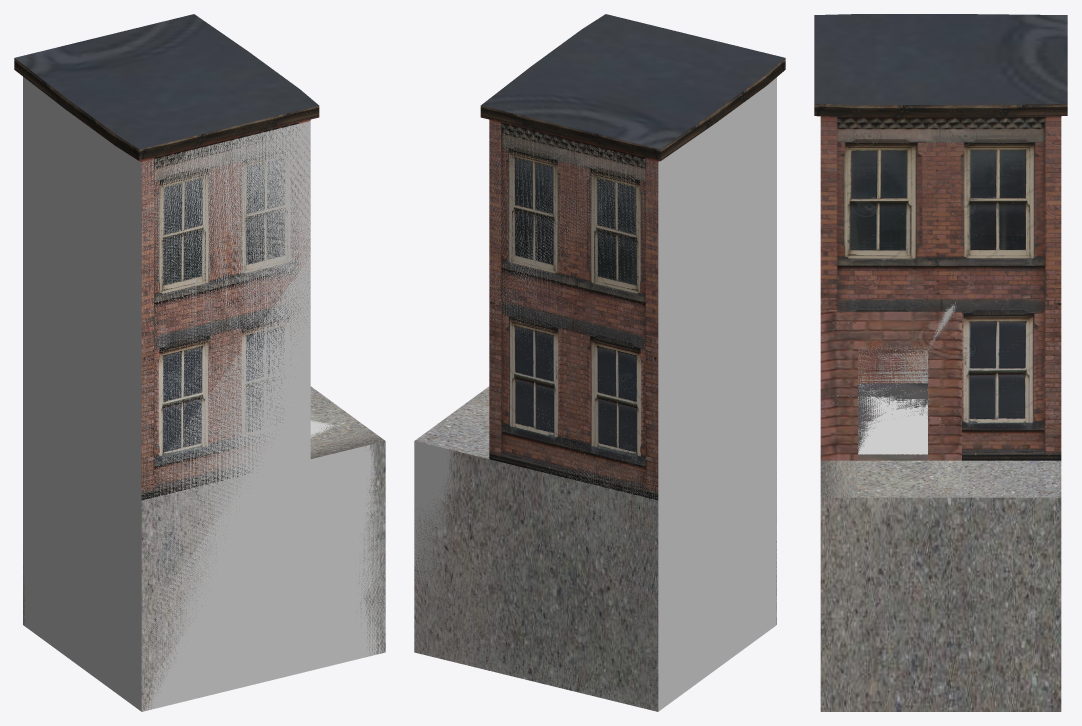
The model's file is player-home.fbx.
The picture shows the model from 3 angles, left to right: view 1: azimuth 30°, elevation 25°; view 2: azimuth 150°, elevation 25°; view 3: azimuth 270°, elevation 25°; orthographic projection.
Parts seen in each view (by area): view 1: Plane.027, Plane.008; view 2: Plane.008, Plane.027; view 3: Plane.008, Plane.027.
Part boxes in pixels (left/top/right/bottom): Plane.027: left=23, top=77, right=385, bottom=711; Plane.008: left=14, top=14, right=385, bottom=711; Plane.008: left=414, top=14, right=785, bottom=711; Plane.027: left=414, top=77, right=776, bottom=711; Plane.008: left=814, top=14, right=1067, bottom=711; Plane.027: left=857, top=302, right=956, bottom=461.
Bounding box in the file's own units: 702 × 1510 × 605.
